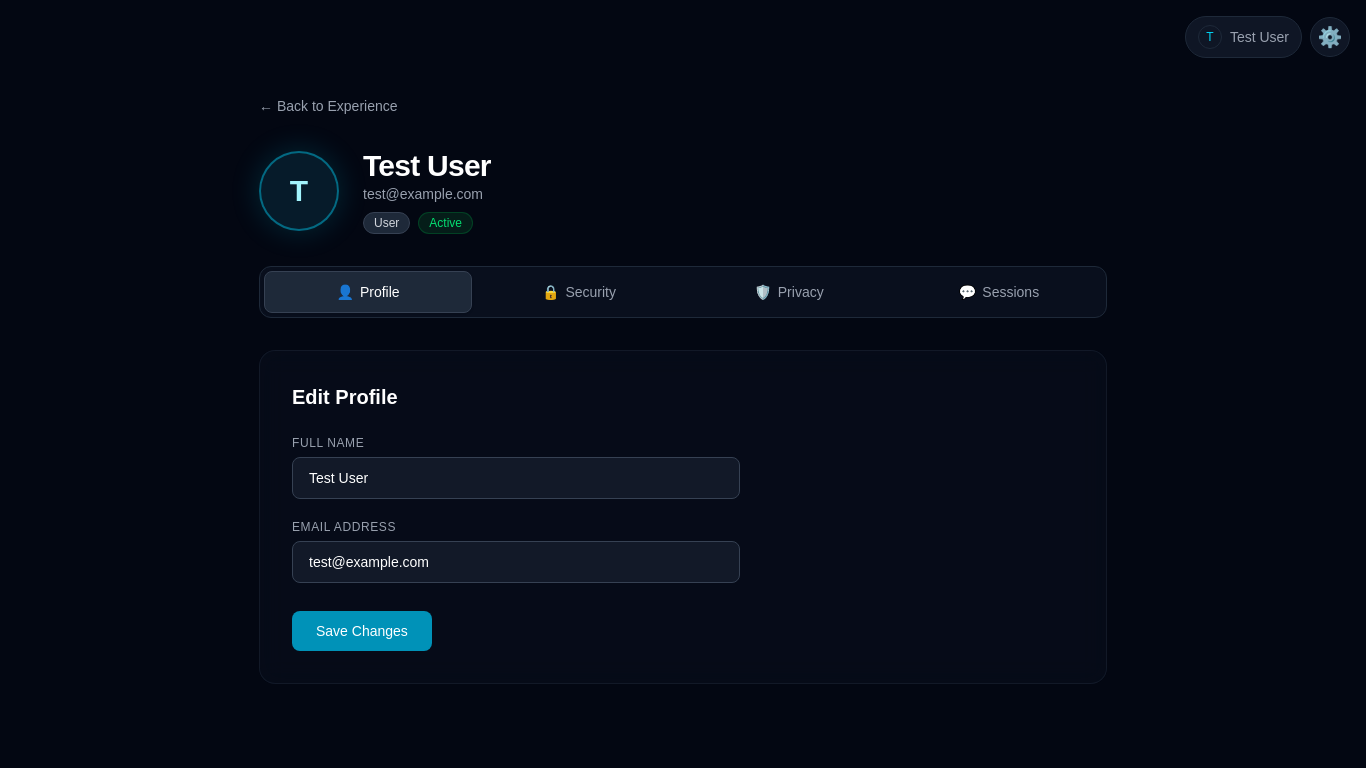
Test case: UserProfilePage › renders session history
# Click Sessions tab
Click the button "💬Sessions": (999, 292) [896, 271, 1102, 313]
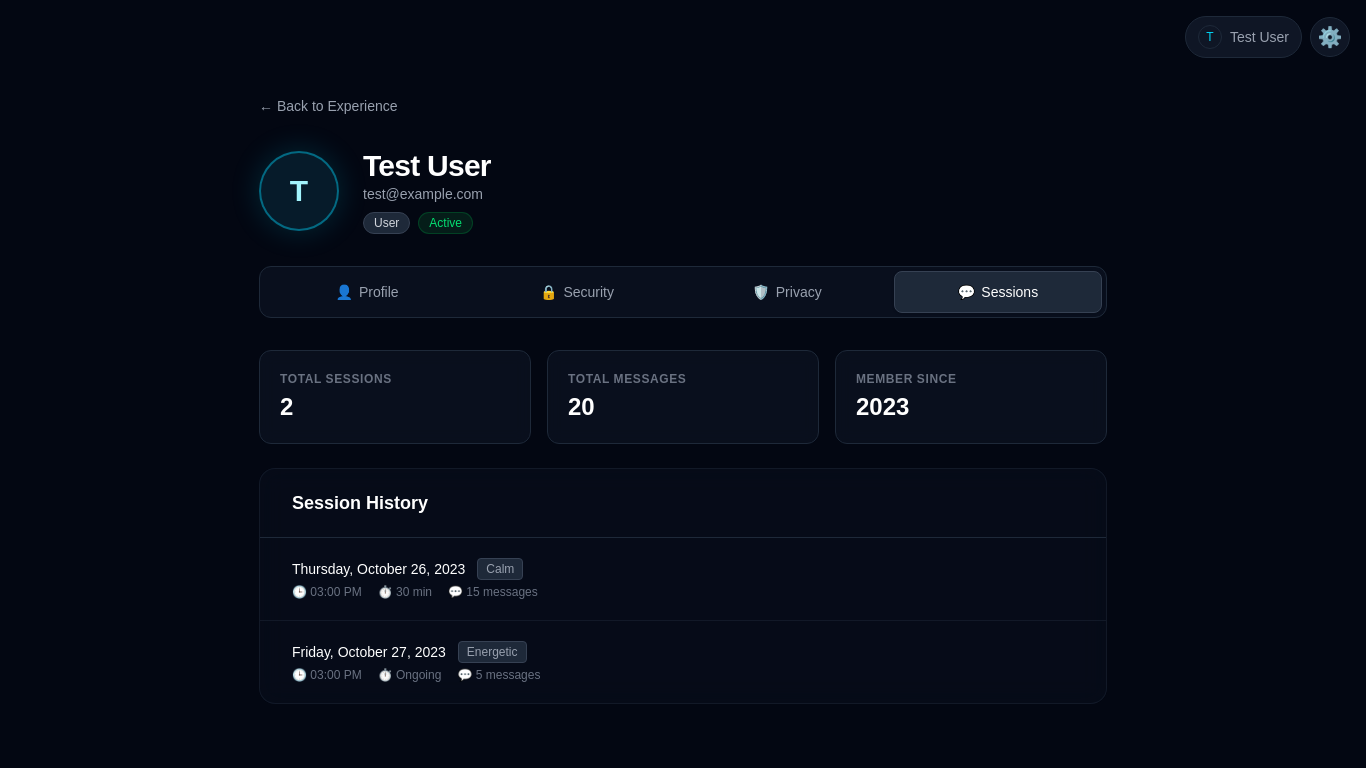
Check: the text "Thursday, October 26, 2023" is shown, box [292, 559, 465, 579]
Check: the text "⏱️ 30 min" is shown, box [378, 584, 432, 600]
Check: the text "⏱️ Ongoing" is shown, box [378, 667, 441, 683]
